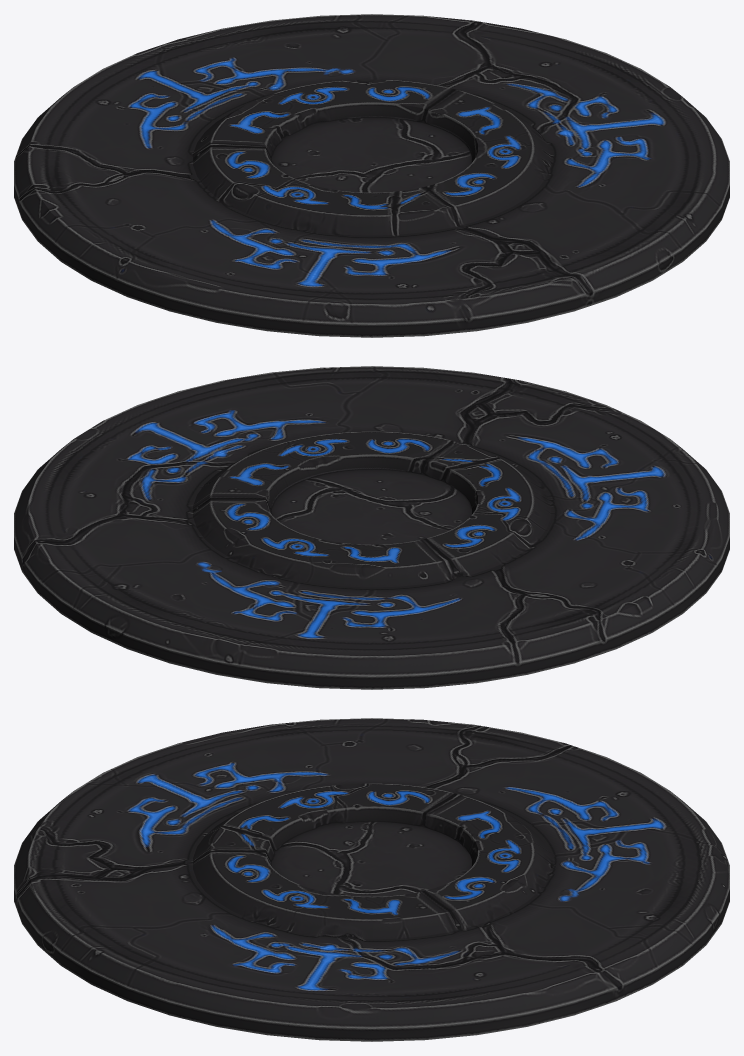
The model's file is runic_platform.glb.
3 renders of one model, top to bottom at view 1: azimuth 30°, elevation 25°; view 2: azimuth 150°, elevation 25°; view 3: azimuth 270°, elevation 25°, orthographic.
Visible parts, largest first — view 1: pCylinder1, pCylinder2; view 2: pCylinder1, pCylinder2; view 3: pCylinder1, pCylinder2.
Part boxes in pixels (box(x1,y1,x2,y2)): pCylinder1: box(14, 14, 729, 337); pCylinder2: box(193, 79, 550, 235); pCylinder1: box(14, 366, 729, 689); pCylinder2: box(193, 431, 550, 587); pCylinder1: box(14, 718, 729, 1041); pCylinder2: box(193, 783, 550, 939).
Bounding box in the file's own units: 45.06 × 2.65 × 44.93.
1 material, 1 textured.
